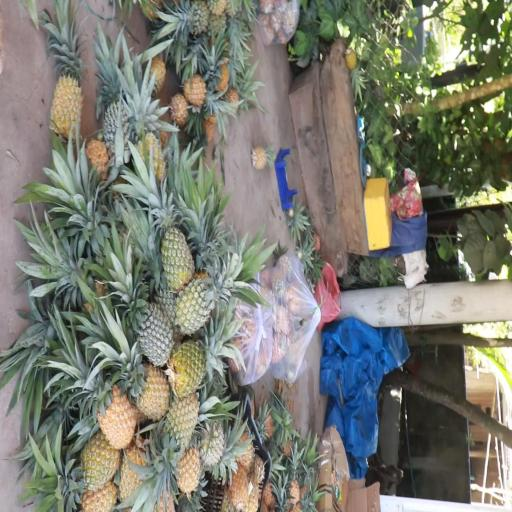------------------------------: (137, 172, 195, 282), (171, 258, 241, 330), (169, 323, 238, 394)
Pineapple - v8 v1: (58, 338, 134, 448), (28, 427, 119, 491), (44, 23, 88, 145), (106, 338, 168, 421), (150, 388, 200, 490)
